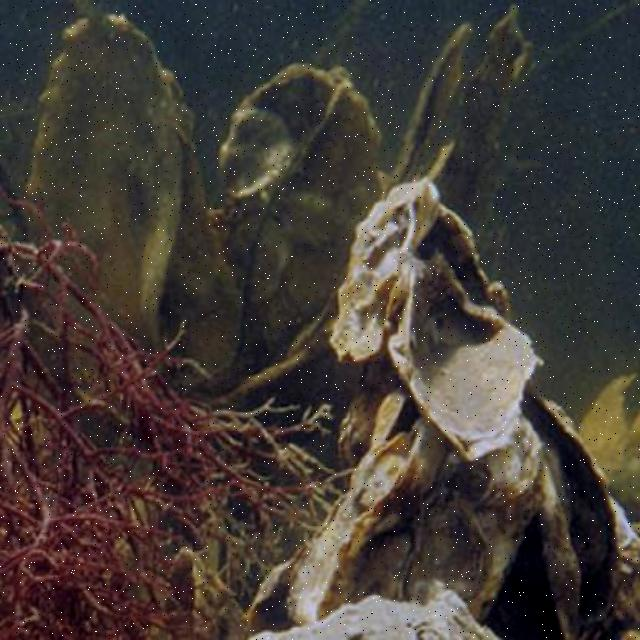Oyster-Closed: (25, 18, 245, 384), (283, 413, 543, 623), (210, 71, 386, 368), (388, 256, 534, 462), (329, 177, 449, 362), (581, 366, 638, 512)
Oyster-Open: (390, 16, 531, 232), (524, 392, 624, 638)
